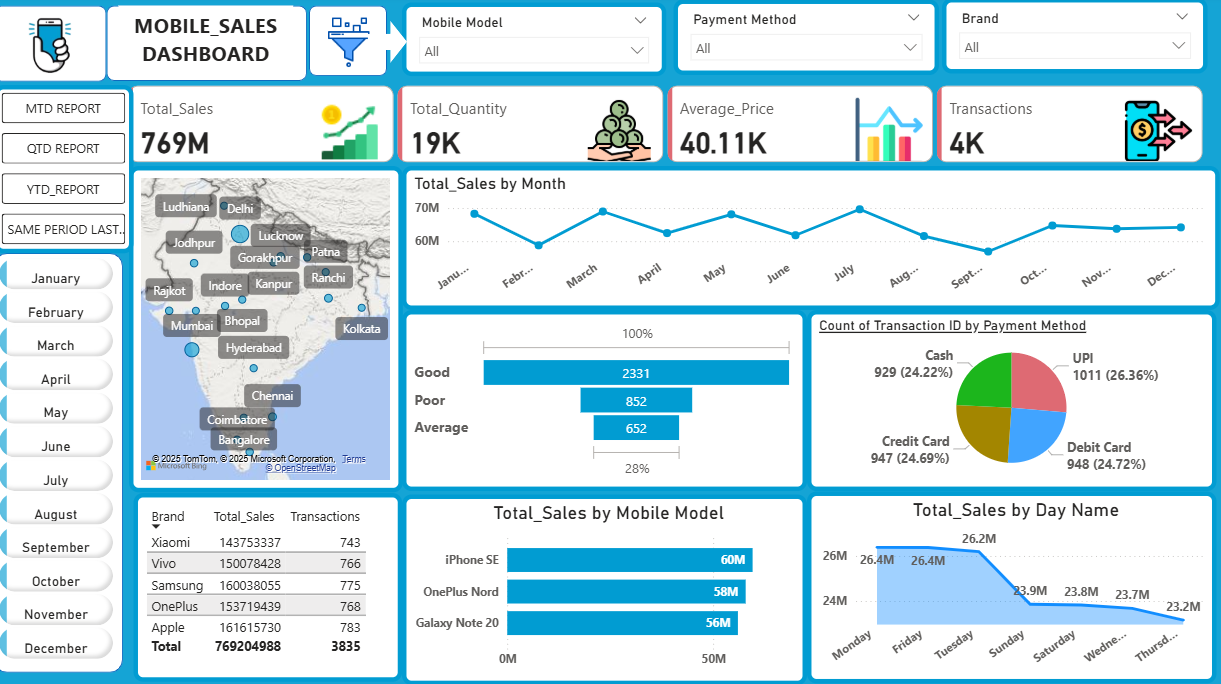

The page's visual inventory and layout, read from the dashboard file:
{"tool":"powerbi","page":{"name":"Mobile_Sales_Dashboard","canvas":[1280,720],"ordinal":0},"visuals":[{"type":"shape","box":[116.7,10.6,209.1,78.8],"z":0},{"type":"shape","box":[0,11.3,117.2,79.4],"z":1000},{"type":"image","box":[15.1,9.4,85,85],"z":2000},{"type":"shape","box":[0,268.8,134.4,437.6],"z":3000},{"type":"advancedSlicerVisual","fields":{"Values":["Custom_Calender.Date.Variation.Date Hierarchy.Month"]},"box":[0,268.8,129.7,431.4],"z":4000},{"type":"cardVisual","fields":{"Data":["Mobile_Sales_Data.Total_Sales","Mobile_Sales_Data.Total_Unit_Sold","Mobile_Sales_Data.Average_Price","Mobile_Sales_Data.Count_Transaction_ID"]},"box":[135,88.3,1130,90],"z":5000},{"type":"textbox","box":[130.3,10.6,181.8,71.2],"z":6000},{"type":"slicer","fields":{"Values":["Mobile_Sales_Data.Mobile Model"]},"box":[425,8.3,275,76.7],"z":7000},{"type":"slicer","fields":{"Values":["Mobile_Sales_Data.Payment Method"]},"box":[708.3,5,276.7,78.3],"z":8000},{"type":"slicer","fields":{"Values":["Mobile_Sales_Data.Brand"]},"box":[988.3,3.3,276.7,78.3],"z":9000},{"type":"shape","box":[328.6,11.2,81.4,73.4],"z":10000},{"type":"image","box":[338.2,0,63.8,98.9],"z":11000},{"type":"shape","box":[389.3,27.1,41.5,44.7],"z":12000},{"type":"lineChart","fields":{"Category":["Custom_Calender.Date.Variation.Date Hierarchy.Month"],"Y":["Mobile_Sales_Data.Total_Sales"]},"box":[425,178.3,851.7,150],"z":13000},{"type":"map","fields":{"Category":["Mobile_Sales_Data.City"],"Size":["Mobile_Sales_Data.Total_Sales"]},"box":[140,178.3,285,340],"z":14000},{"type":"funnel","title":"Customer Ratings by Rating_Status","fields":{"Category":["Mobile_Sales_Data.Rating_Status"],"Y":["CountNonNull(Mobile_Sales_Data.Customer Ratings)"]},"box":[425,328.3,421.7,188.3],"z":15000},{"type":"pieChart","fields":{"Y":["CountNonNull(Mobile_Sales_Data.Transaction ID)"],"Category":["Mobile_Sales_Data.Payment Method"]},"box":[846.7,328.3,426.7,188.3],"z":16000},{"type":"clusteredBarChart","fields":{"Y":["Mobile_Sales_Data.Total_Sales"],"Category":["Mobile_Sales_Data.Mobile Model"]},"box":[425,520,421.7,198.3],"z":17000},{"type":"areaChart","fields":{"Y":["Mobile_Sales_Data.Total_Sales"],"Category":["Custom_Calender.Day Name"]},"box":[846.7,516.7,426.7,200],"z":18000},{"type":"tableEx","fields":{"Values":["Mobile_Sales_Data.Brand","Mobile_Sales_Data.Total_Sales","Mobile_Sales_Data.Transactions"]},"box":[145,518.3,280,196.7],"z":19000},{"type":"pageNavigator","box":[0,93.8,145.4,175.1],"z":20000}]}

Visuals, with their boxes in screenshot pixels (x1, y1, x2, y2), scaled from the page's 1280x720 canvas onto the 1221x684 screenshot:
shape: 111,10,311,85
shape: 0,11,112,86
image: 14,9,95,90
shape: 0,255,128,671
advancedSlicerVisual - Custom_Calender.Date.Variation.Date Hierarchy.Month: 0,255,124,665
cardVisual - Mobile_Sales_Data.Total_Sales x Mobile_Sales_Data.Total_Unit_Sold: 129,84,1207,169
textbox: 124,10,298,78
slicer - Mobile_Sales_Data.Mobile Model: 405,8,668,81
slicer - Mobile_Sales_Data.Payment Method: 676,5,940,79
slicer - Mobile_Sales_Data.Brand: 943,3,1207,78
shape: 313,11,391,80
image: 323,0,383,94
shape: 371,26,411,68
lineChart - Custom_Calender.Date.Variation.Date Hierarchy.Month x Mobile_Sales_Data.Total_Sales: 405,169,1218,312
map - Mobile_Sales_Data.City x Mobile_Sales_Data.Total_Sales: 134,169,405,492
"Customer Ratings by Rating_Status" funnel: 405,312,808,491
pieChart - CountNonNull(Mobile_Sales_Data.Transaction ID) x Mobile_Sales_Data.Payment Method: 808,312,1215,491
clusteredBarChart - Mobile_Sales_Data.Total_Sales x Mobile_Sales_Data.Mobile Model: 405,494,808,682
areaChart - Mobile_Sales_Data.Total_Sales x Custom_Calender.Day Name: 808,491,1215,681
tableEx - Mobile_Sales_Data.Brand x Mobile_Sales_Data.Total_Sales: 138,492,405,679
pageNavigator: 0,89,139,255
